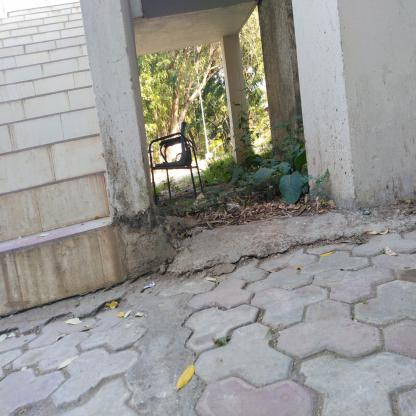stairs: (3, 12, 81, 330)
